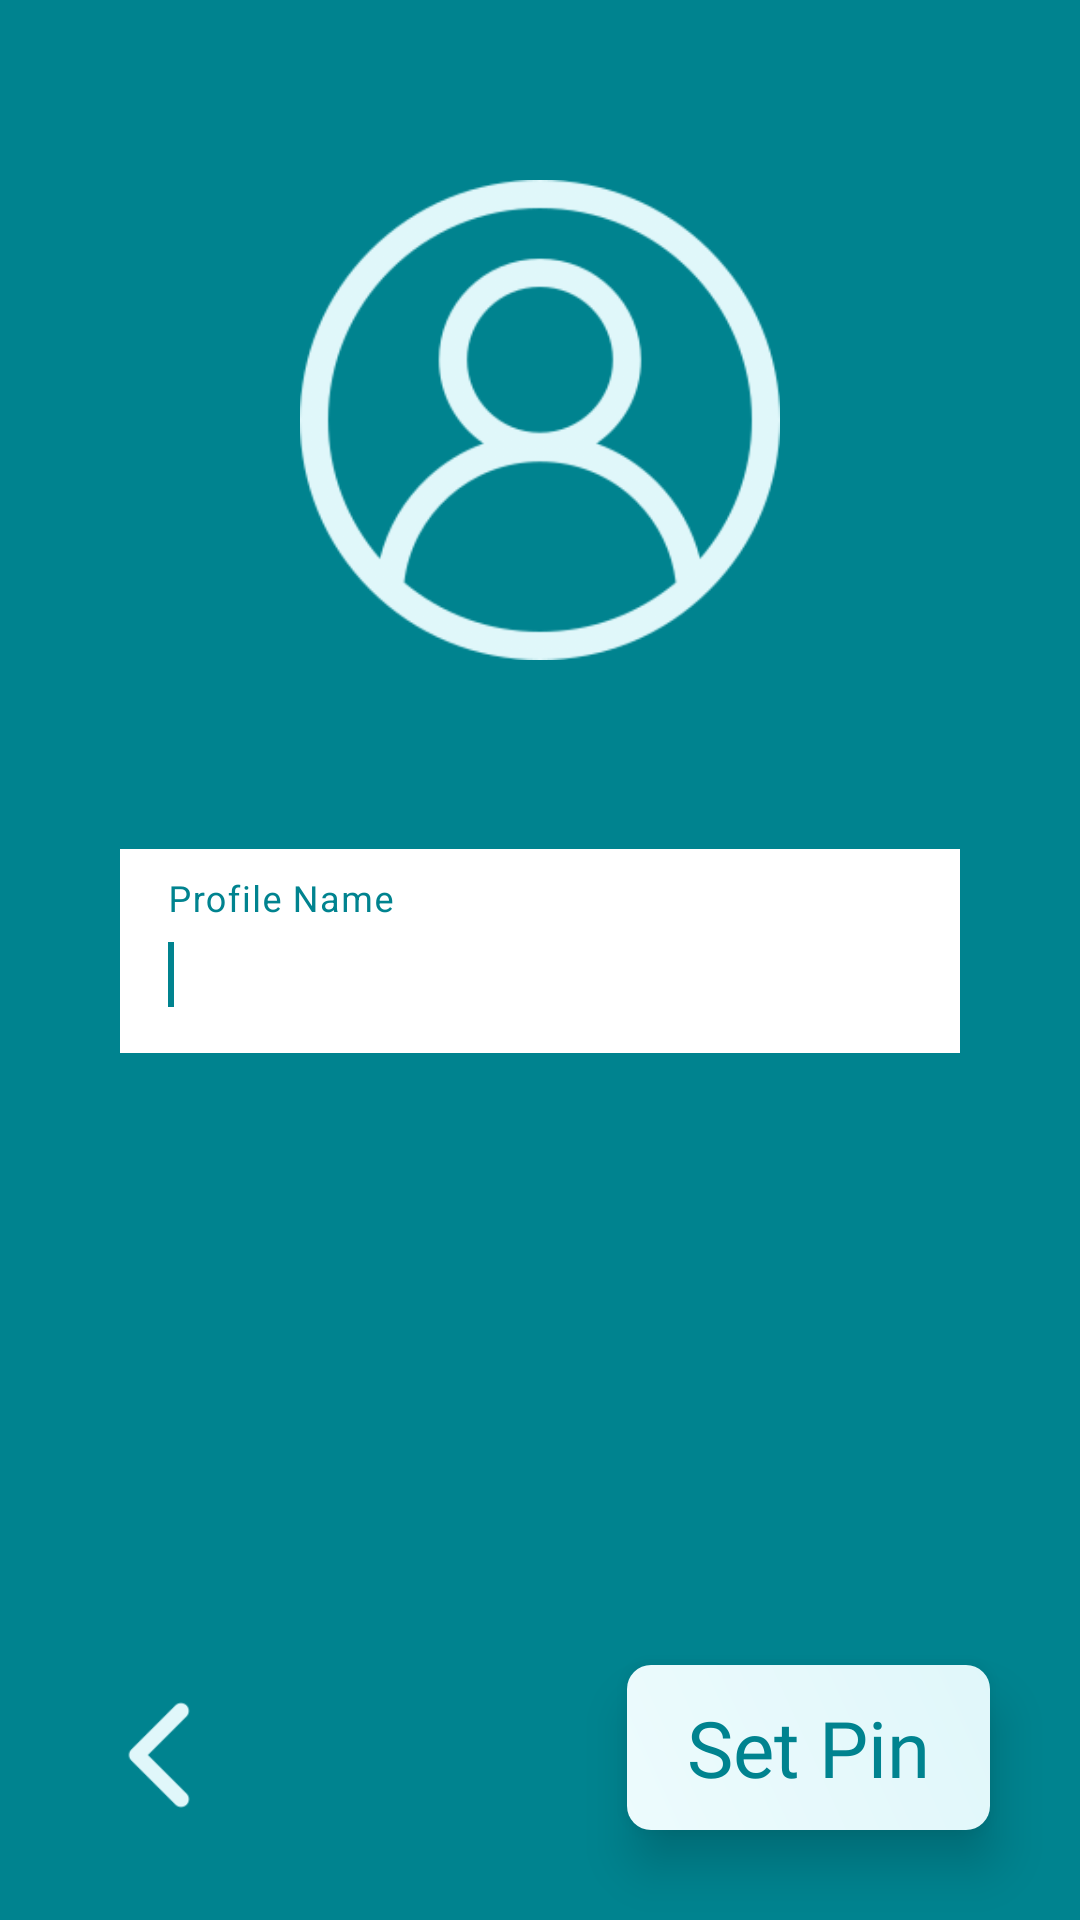

Named icons in this screenshot (1080×1920) and their bounding boxes, (x1, y1, x2, y2):
left arrow: (128, 1702, 190, 1808)
